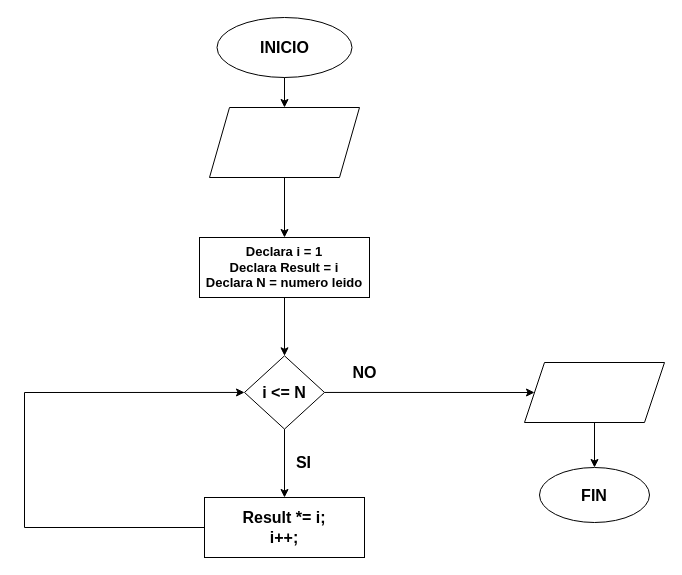
Some shapes in this 682 by 575 pixel diagram are drawn without their labels. Here are the shapes that lost their labels. From the top down, the centre of each, then its label:
point 284,142: Pide un numero
point 594,392: Muestra Result
